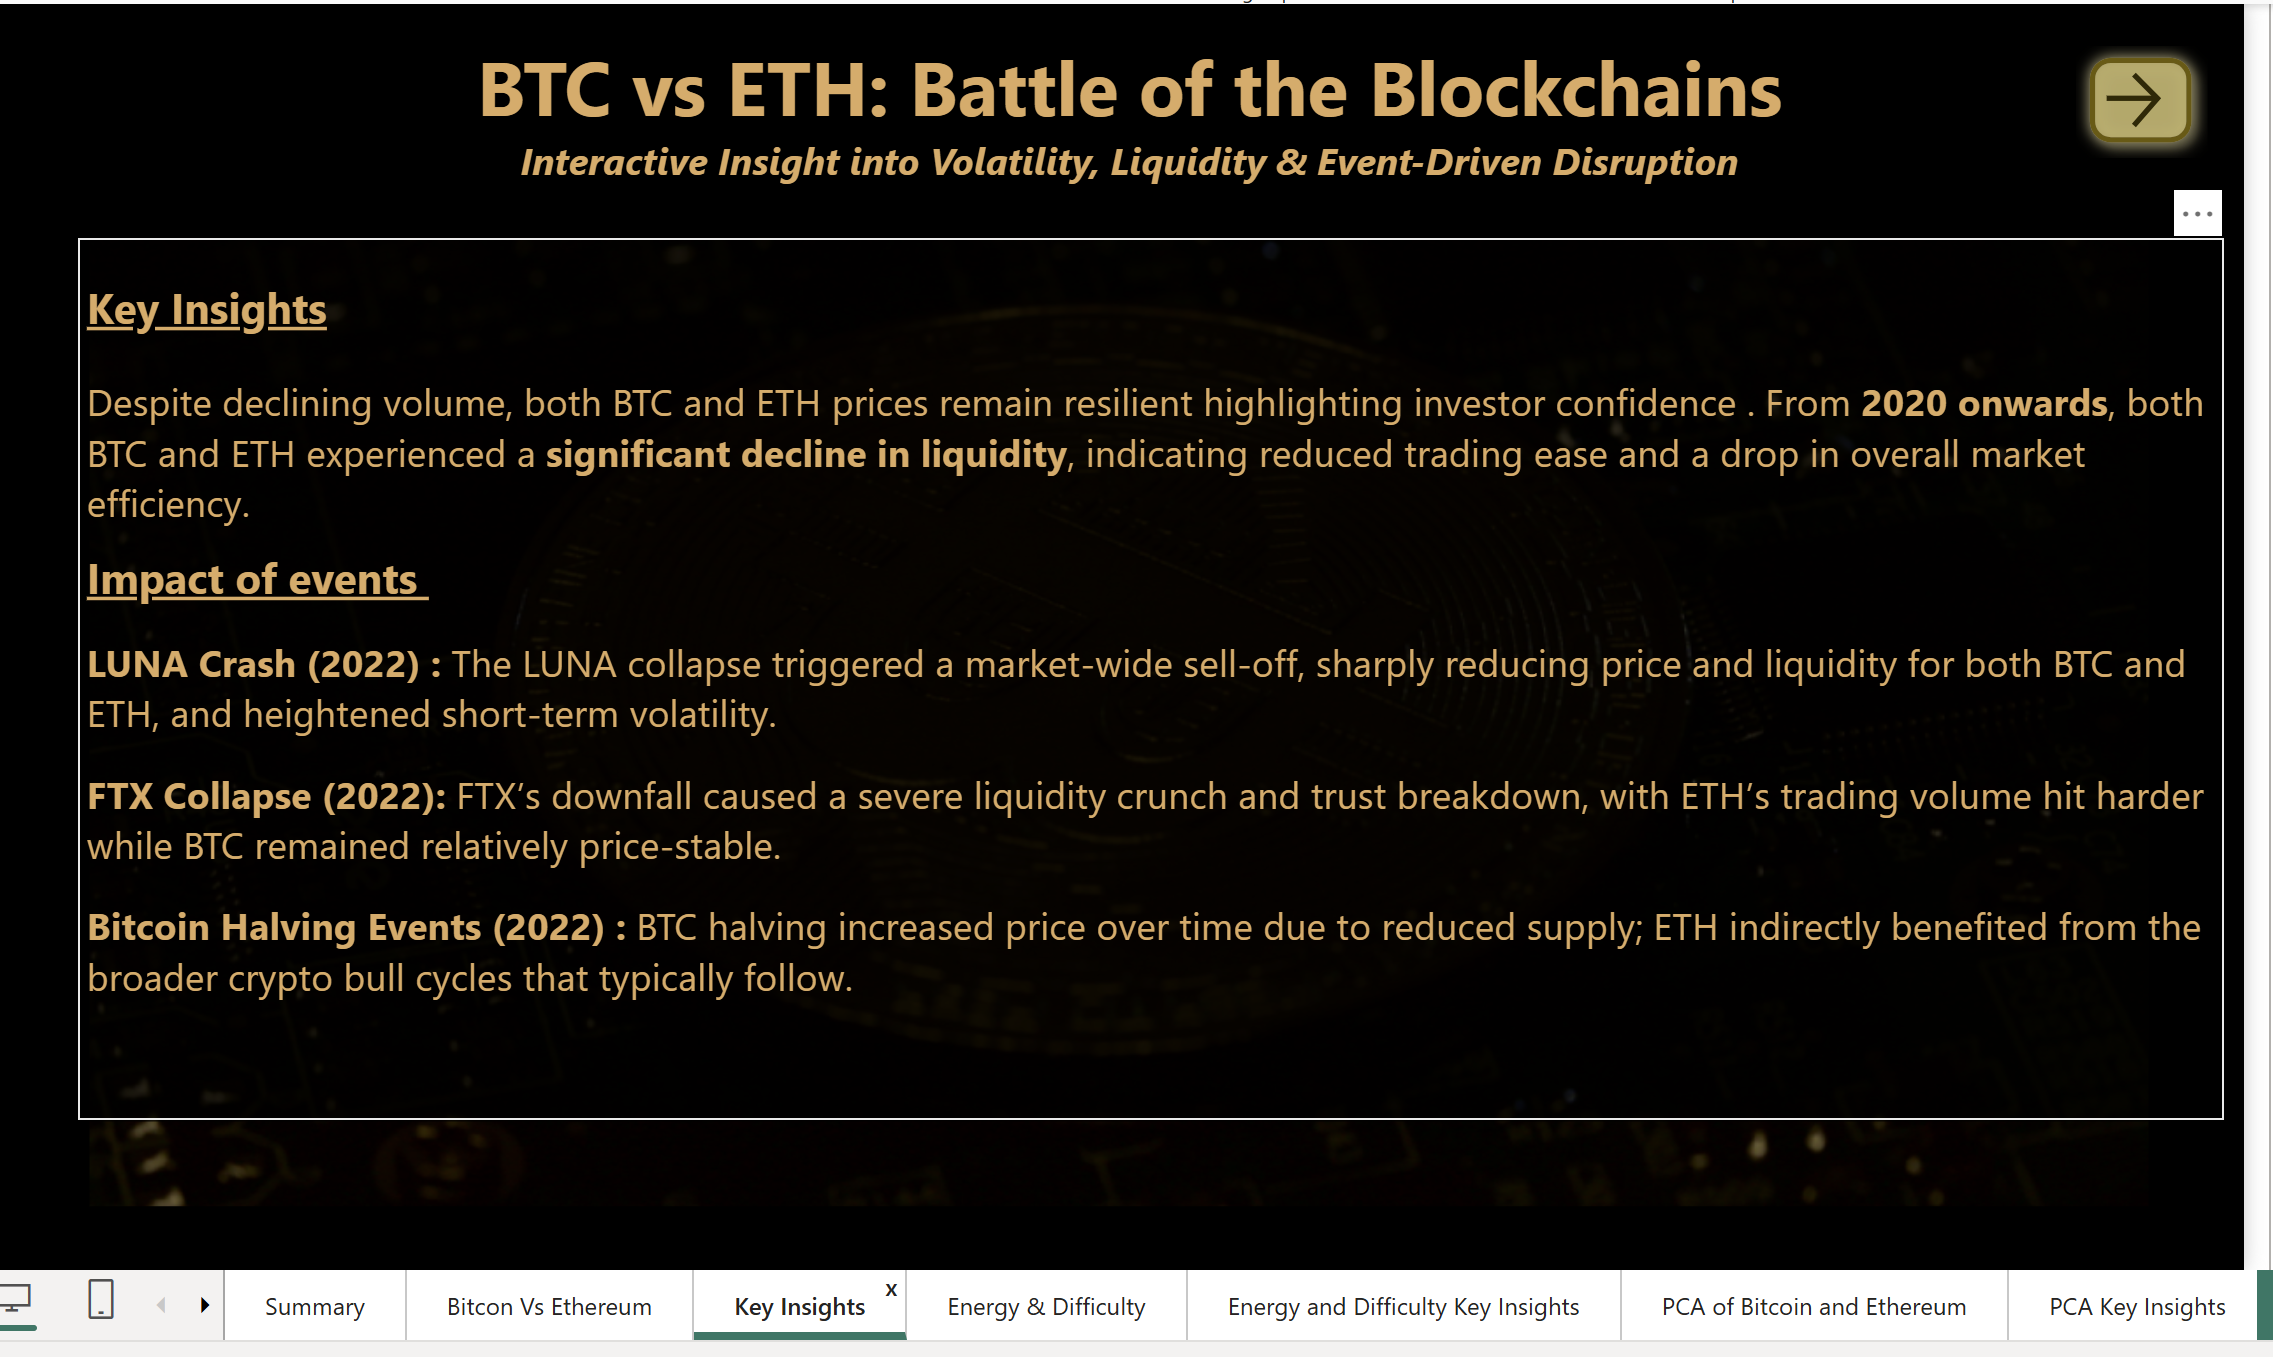

The page's visual inventory and layout, read from the dashboard file:
{"tool":"powerbi","page":{"name":" Key Insights","canvas":[1280,720],"ordinal":2},"visuals":[{"type":"textbox","box":[23.8,12.5,1243.9,120.3],"z":0},{"type":"textbox","box":[47.6,132.8,1220.1,502.3],"z":1000},{"type":"actionButton","box":[1183,22,75.9,66.1],"z":3000}]}

Visuals, with their boxes on the page's 1280x720 design canvas (x1, y1, x2, y2). These are canvas units, not pixel positions in the 2273x1357 screenshot, which may show the page scaled, cropped or inside an application window:
textbox: 24,12,1268,133
textbox: 48,133,1268,635
actionButton: 1183,22,1259,88
